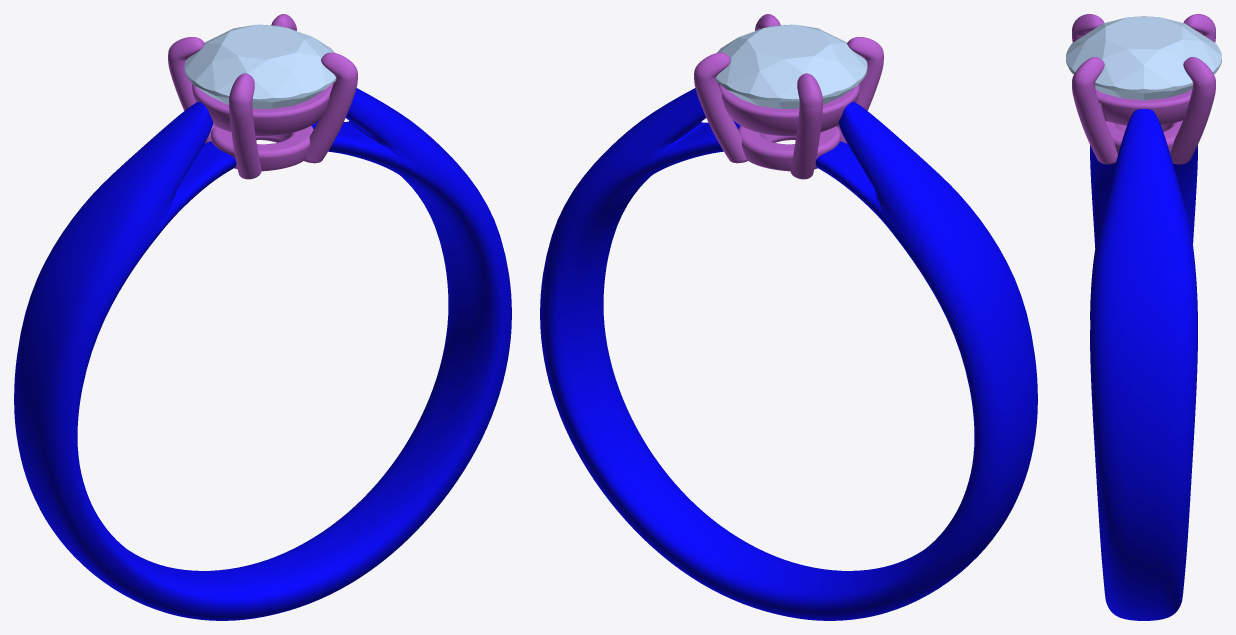
3 views of the same model, side by side, from view 1: azimuth 30°, elevation 25°; view 2: azimuth 150°, elevation 25°; view 3: azimuth 270°, elevation 25° (orthographic).
Parts seen in each view (by area): view 1: SubD RING BUILDER, Bazel Gallery, GG_Round; view 2: SubD RING BUILDER, Bazel Gallery, GG_Round; view 3: SubD RING BUILDER, GG_Round, Bazel Gallery.
Part boxes in pixels (x1,y1,x2,y2): SubD RING BUILDER: (14, 83, 511, 620); Bazel Gallery: (168, 14, 357, 179); GG_Round: (184, 24, 336, 108); SubD RING BUILDER: (540, 83, 1037, 620); Bazel Gallery: (694, 14, 883, 179); GG_Round: (715, 24, 867, 108); SubD RING BUILDER: (1090, 109, 1197, 620); GG_Round: (1066, 16, 1221, 100); Bazel Gallery: (1072, 14, 1215, 164).
Size of the model in its own units: 2.58 by 2.97 by 0.7449.
